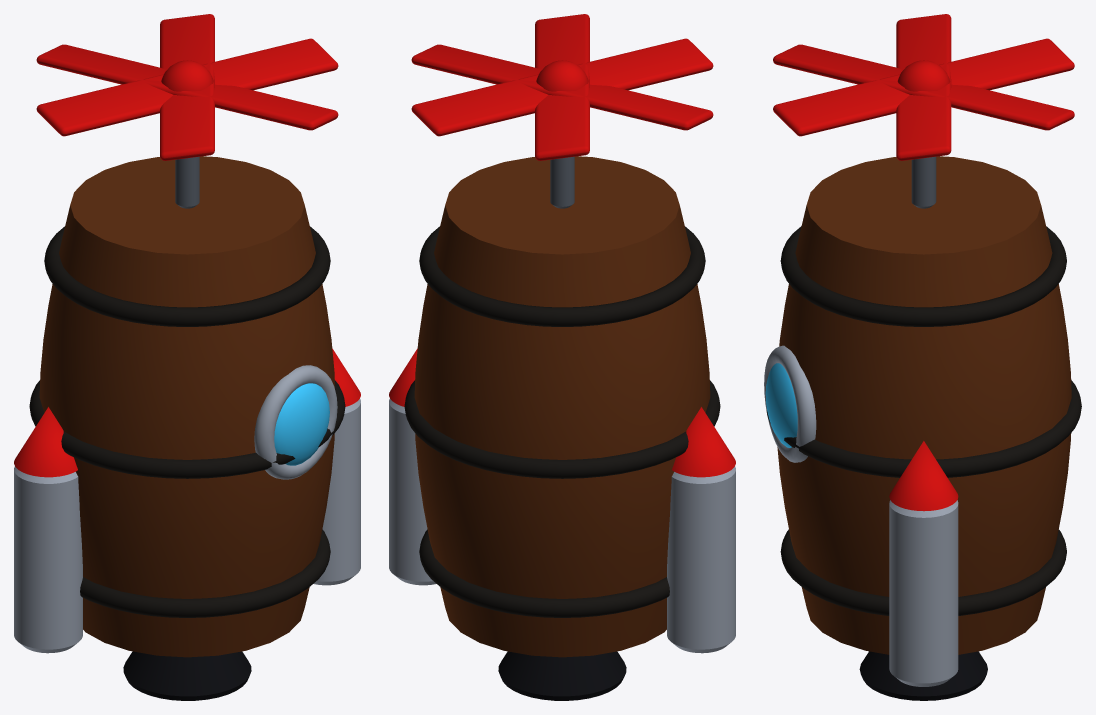
The model's file is Rocket_06_BarrelCopter.obj.
3 views of the same model, side by side, from view 1: azimuth 30°, elevation 25°; view 2: azimuth 150°, elevation 25°; view 3: azimuth 270°, elevation 25° (orthographic).
Parts seen in each view (by area): view 1: R06_Body, R06_SideThruster_2, R06_Blade, R06_Hoop_2, R06_Blade_2, R06_Blade_3, R06_SideThruster, R06_Hoop, R06_HoopMid, R06_Nozzle, R06_WindowFrame, R06_Window (+4 smaller); view 2: R06_Body, R06_SideThruster_2, R06_Blade_3, R06_Hoop_2, R06_HoopMid, R06_Blade, R06_Blade_2, R06_SideThruster, R06_Hoop, R06_Nozzle, R06_ThrusterTip_2, R06_Hub (+2 smaller); view 3: R06_Body, R06_SideThruster, R06_Blade_2, R06_Hoop_2, R06_Blade, R06_Blade_3, R06_HoopMid, R06_Hoop, R06_Nozzle, R06_ThrusterTip, R06_WindowFrame, R06_Window (+2 smaller).
Boxes of the visible parts, x1,y1,x2,y2 form: R06_Body: [39, 156, 334, 657]; R06_SideThruster_2: [14, 466, 82, 653]; R06_Blade: [36, 38, 338, 136]; R06_Hoop_2: [44, 226, 330, 326]; R06_Blade_2: [36, 44, 338, 130]; R06_Blade_3: [160, 14, 214, 160]; R06_SideThruster: [313, 399, 360, 585]; R06_Hoop: [80, 529, 330, 617]; R06_HoopMid: [29, 380, 345, 478]; R06_Nozzle: [123, 651, 251, 700]; R06_WindowFrame: [254, 365, 337, 479]; R06_Window: [274, 383, 329, 465]; R06_Body: [414, 156, 710, 657]; R06_SideThruster_2: [667, 466, 735, 653]; R06_Blade_3: [411, 38, 713, 136]; R06_Hoop_2: [419, 226, 705, 326]; R06_HoopMid: [404, 380, 720, 478]; R06_Blade: [411, 44, 713, 130]; R06_Blade_2: [535, 14, 589, 160]; R06_SideThruster: [389, 399, 436, 585]; R06_Hoop: [419, 529, 669, 617]; R06_Nozzle: [498, 651, 626, 700]; R06_ThrusterTip_2: [672, 407, 735, 477]; R06_Hub: [536, 60, 588, 91]; R06_Body: [777, 156, 1071, 654]; R06_SideThruster: [889, 500, 958, 686]; R06_Blade_2: [773, 38, 1074, 136]; R06_Hoop_2: [780, 226, 1066, 326]; R06_Blade: [896, 14, 951, 160]; R06_Blade_3: [773, 44, 1074, 130]; R06_HoopMid: [766, 380, 1081, 477]; R06_Hoop: [780, 529, 1066, 615]; R06_Nozzle: [859, 651, 987, 700]; R06_ThrusterTip: [889, 441, 958, 511]; R06_WindowFrame: [764, 345, 816, 462]; R06_Window: [765, 363, 797, 447].
Size of the model in its own units: 3.16 by 5.47 by 2.57.
